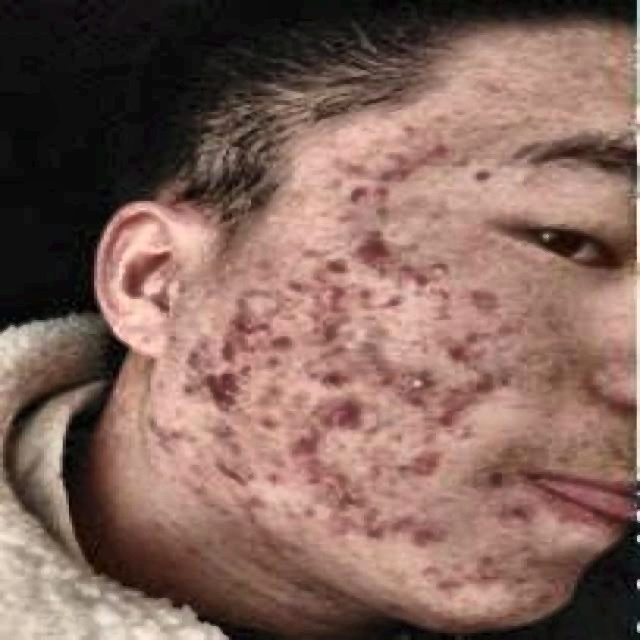nodule: (301, 392, 361, 430), (339, 453, 398, 484), (292, 250, 345, 280), (354, 231, 402, 264), (364, 360, 411, 392), (358, 507, 398, 544), (279, 413, 314, 451), (448, 283, 492, 313), (210, 444, 251, 476), (304, 315, 342, 348), (323, 154, 373, 178), (471, 540, 508, 572), (223, 308, 270, 332), (292, 453, 326, 486), (198, 413, 232, 444), (311, 362, 348, 390), (408, 518, 445, 546), (222, 283, 266, 306), (276, 502, 314, 528), (436, 574, 471, 602), (323, 512, 355, 540), (408, 558, 445, 582), (380, 156, 408, 187), (446, 336, 474, 367), (430, 381, 464, 406), (480, 460, 505, 493), (210, 388, 242, 413), (427, 400, 455, 428), (395, 369, 436, 388), (405, 451, 442, 472), (267, 262, 298, 287), (329, 203, 361, 227), (204, 364, 235, 388), (389, 121, 424, 142), (402, 395, 433, 418), (471, 563, 498, 586), (345, 173, 367, 201), (314, 470, 348, 488), (398, 266, 421, 292), (354, 339, 380, 362), (505, 500, 530, 523), (320, 282, 345, 304), (226, 483, 248, 507), (185, 334, 217, 350), (418, 138, 442, 159), (214, 334, 238, 355), (251, 381, 279, 399), (286, 537, 310, 558), (411, 428, 436, 448), (260, 460, 286, 479), (182, 348, 207, 367), (179, 374, 204, 392), (258, 353, 282, 371), (170, 428, 194, 446), (373, 145, 392, 166), (141, 414, 163, 432), (336, 491, 358, 509), (323, 163, 339, 187), (242, 339, 266, 355), (238, 355, 258, 374), (374, 292, 398, 306), (273, 329, 292, 346), (355, 276, 370, 294), (257, 407, 270, 425)
